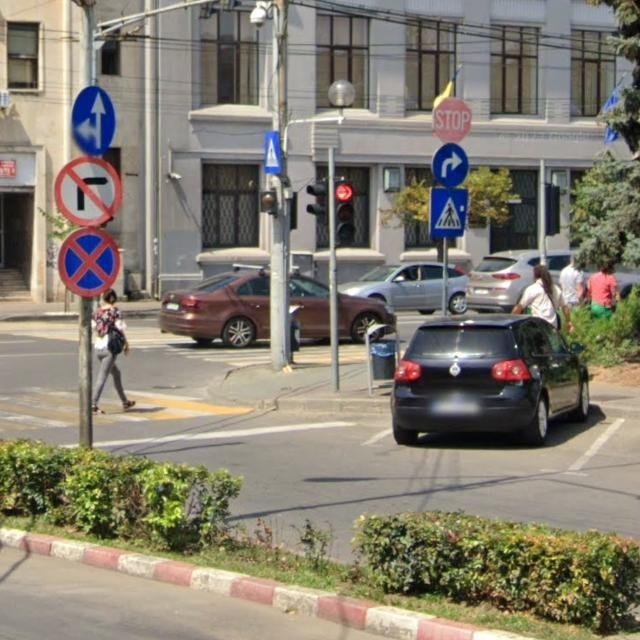forb_waiting: (58, 229, 122, 297)
info_crosswalk: (429, 189, 467, 239), (262, 133, 287, 176)
prio_stop: (433, 96, 473, 143)
